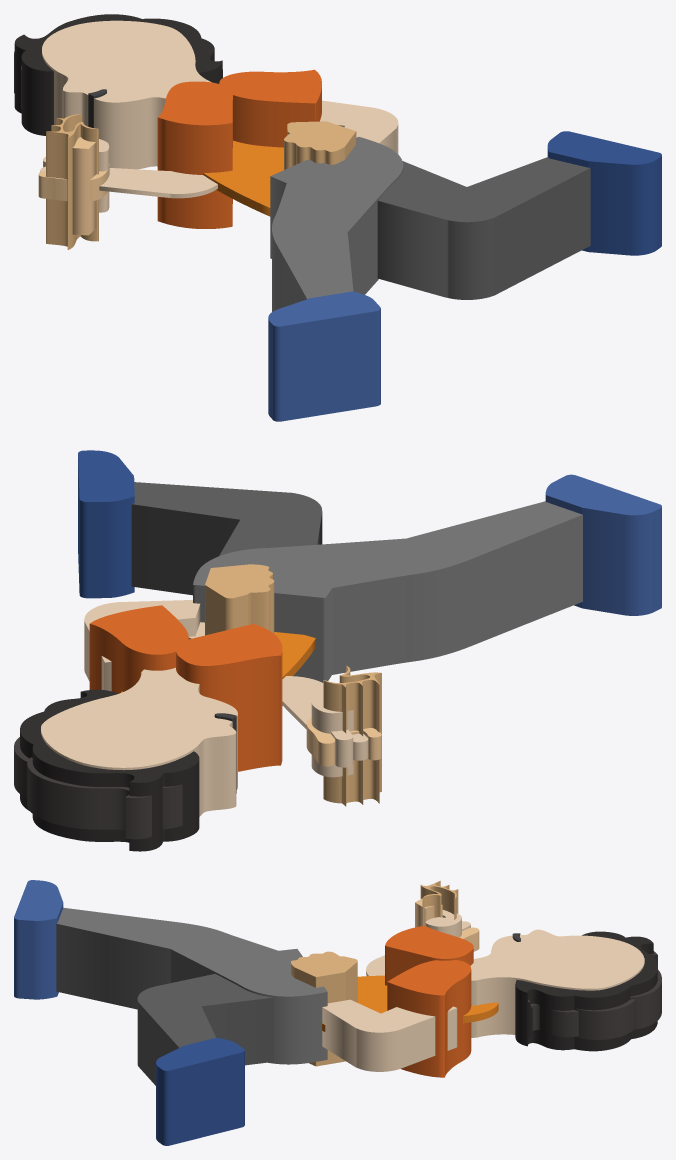
The model's file is emoji_u1f3c3_1f3fb.glb.
The picture shows the model from 3 angles, top to bottom: view 1: azimuth 30°, elevation 25°; view 2: azimuth 150°, elevation 25°; view 3: azimuth 270°, elevation 25°; orthographic projection. The views are drawn at different scales.
Visible parts, largest first — view 1: emoji_u1f3c3_1f3fb; view 2: emoji_u1f3c3_1f3fb; view 3: emoji_u1f3c3_1f3fb.
Boxes of the visible parts, bbox=[...] form: emoji_u1f3c3_1f3fb: bbox=[14, 14, 661, 421]; emoji_u1f3c3_1f3fb: bbox=[14, 450, 661, 851]; emoji_u1f3c3_1f3fb: bbox=[14, 880, 661, 1145].
Size of the model in its own units: 0.0227 by 0.0052 by 0.0329.
